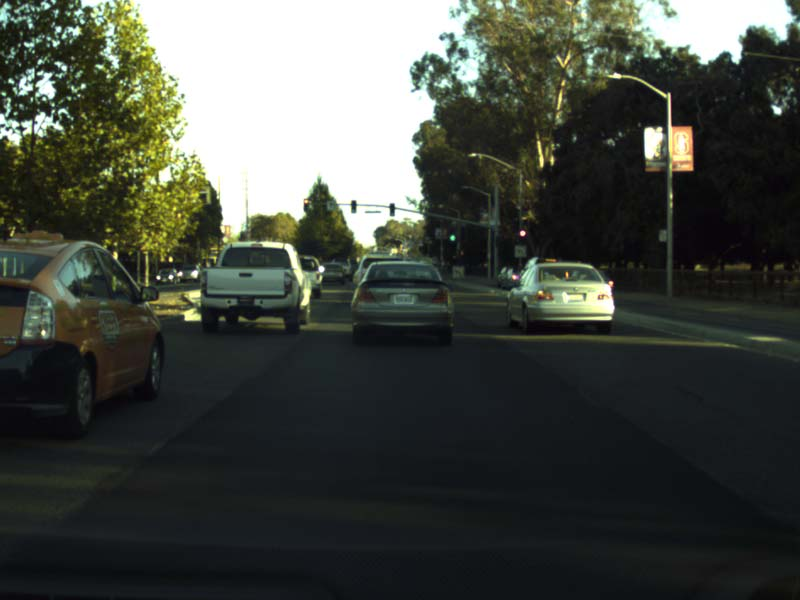Green: (447, 224, 456, 244), (388, 202, 395, 216), (350, 200, 356, 212)
Red: (302, 198, 309, 212)
Yellow: (519, 228, 526, 245)
